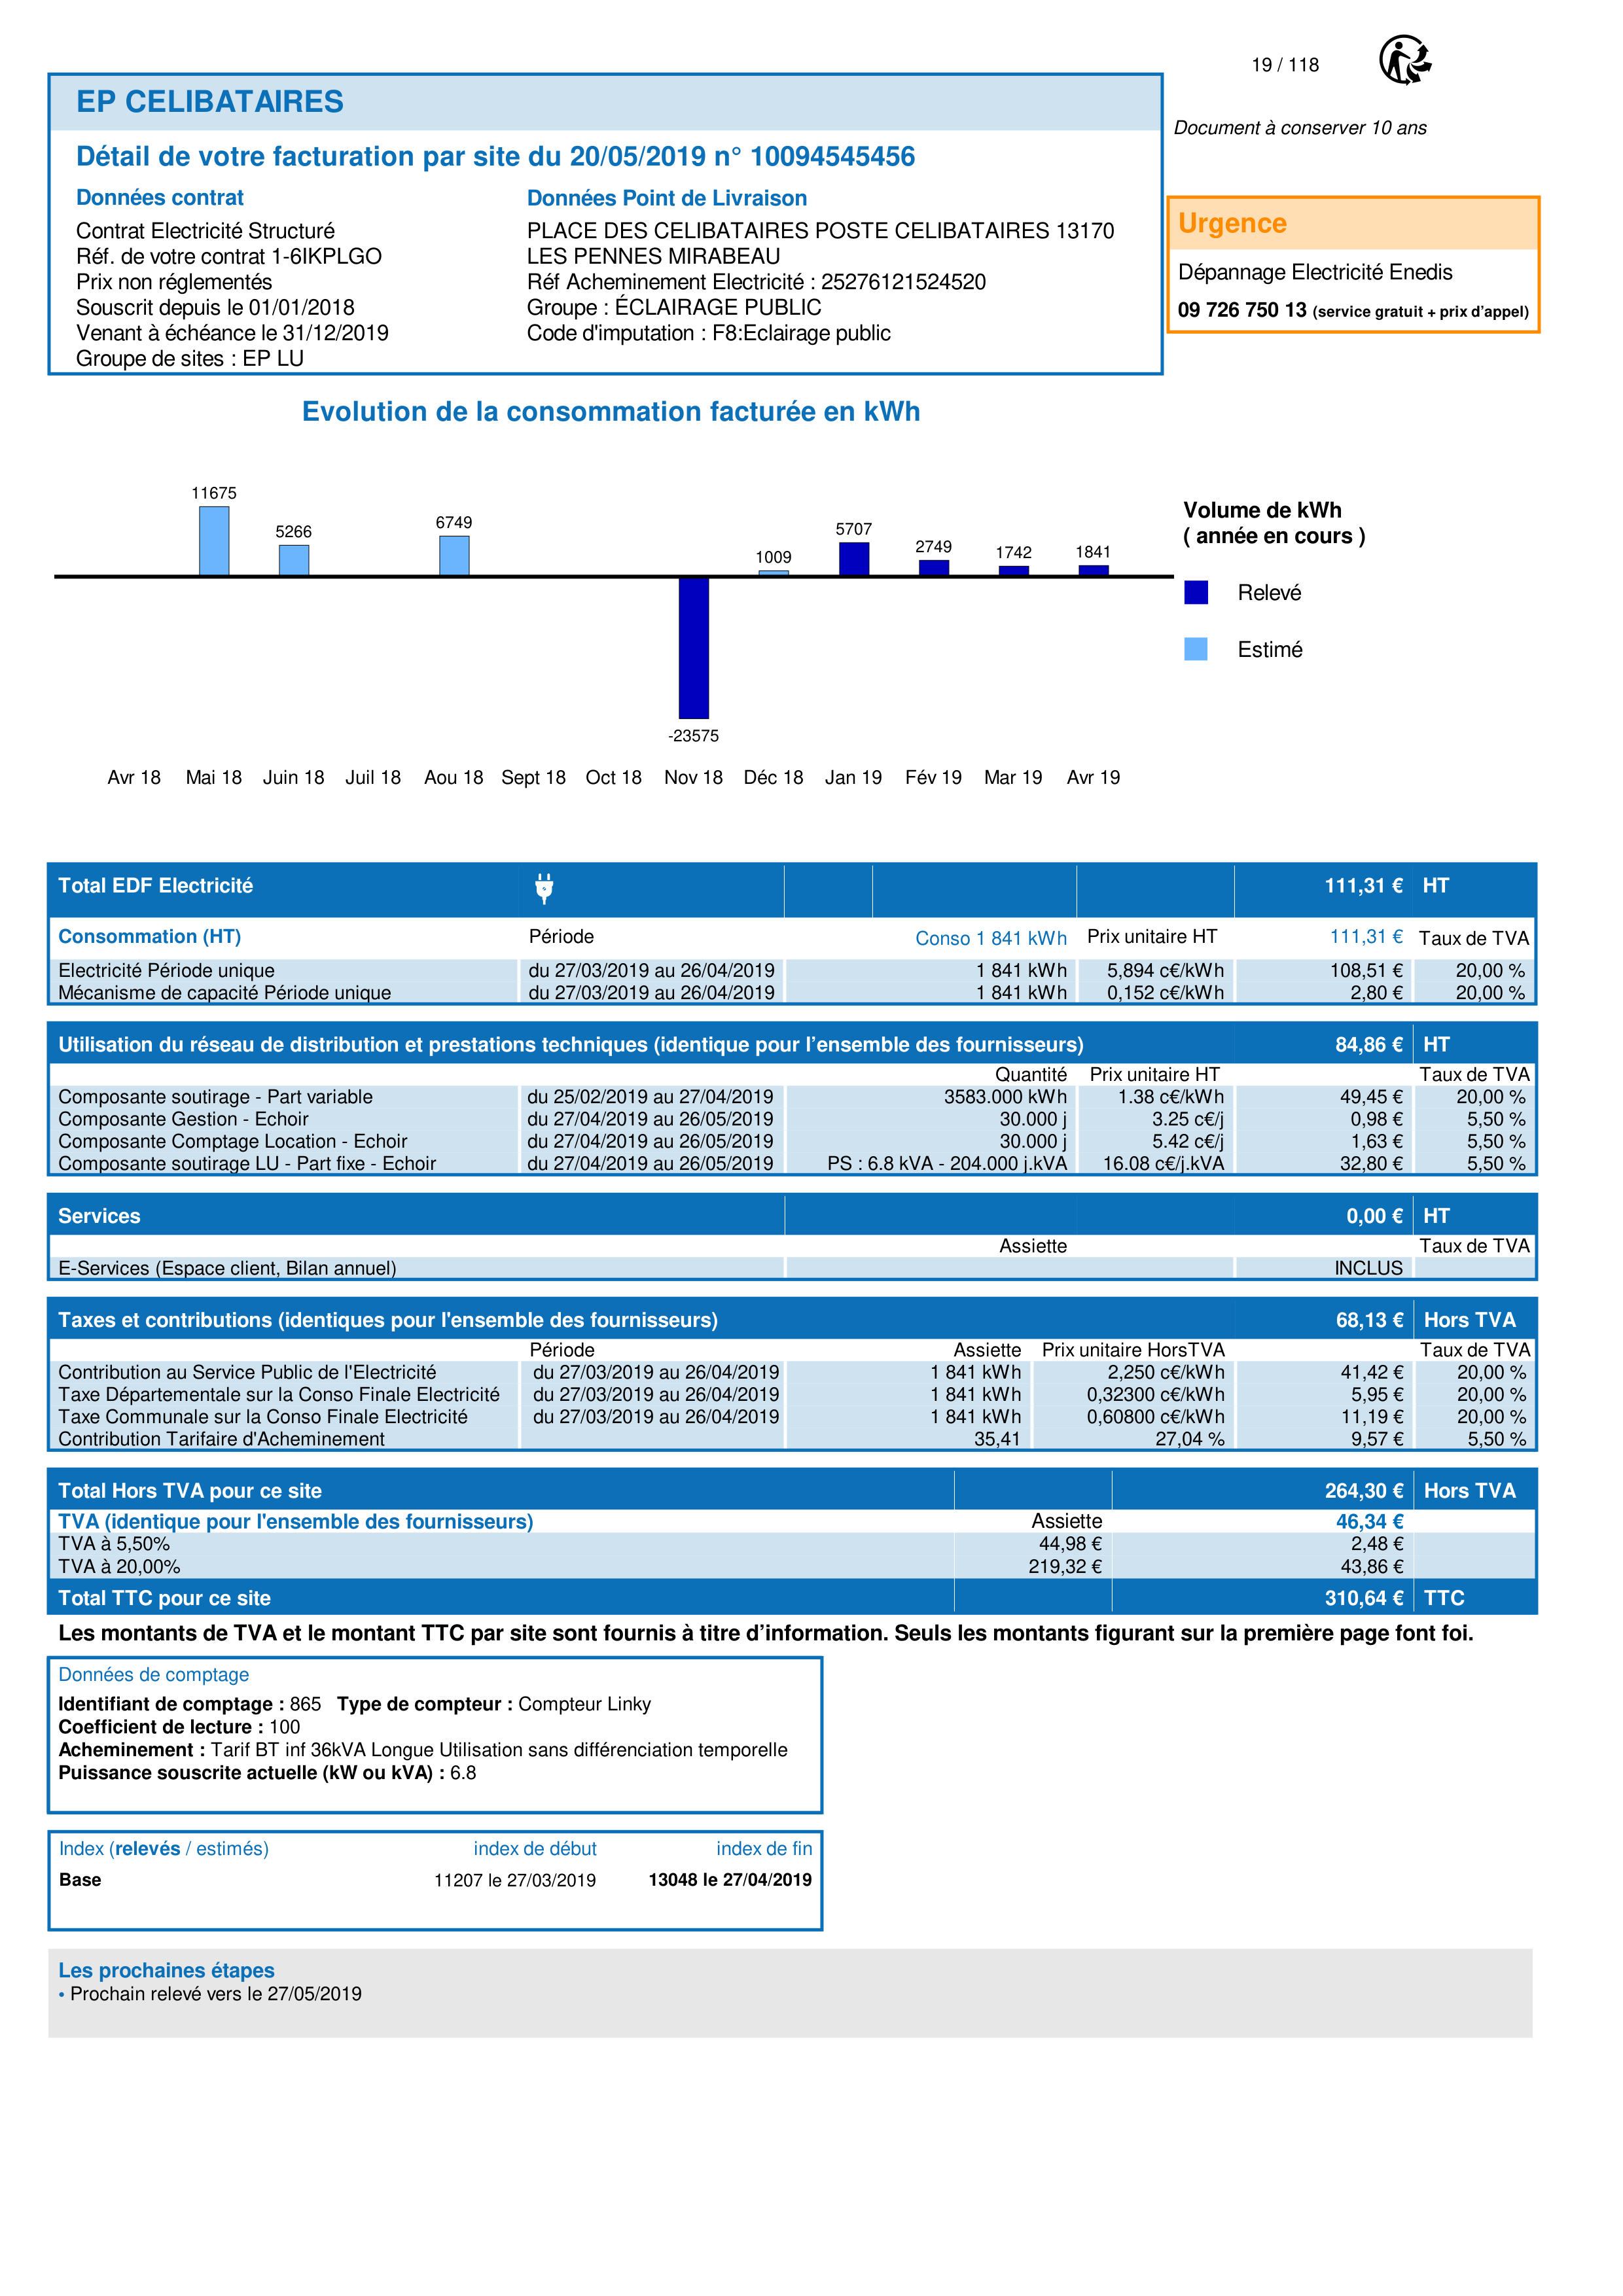area: (49, 1829, 822, 1928)
type_indicator: (49, 1832, 283, 1865)
